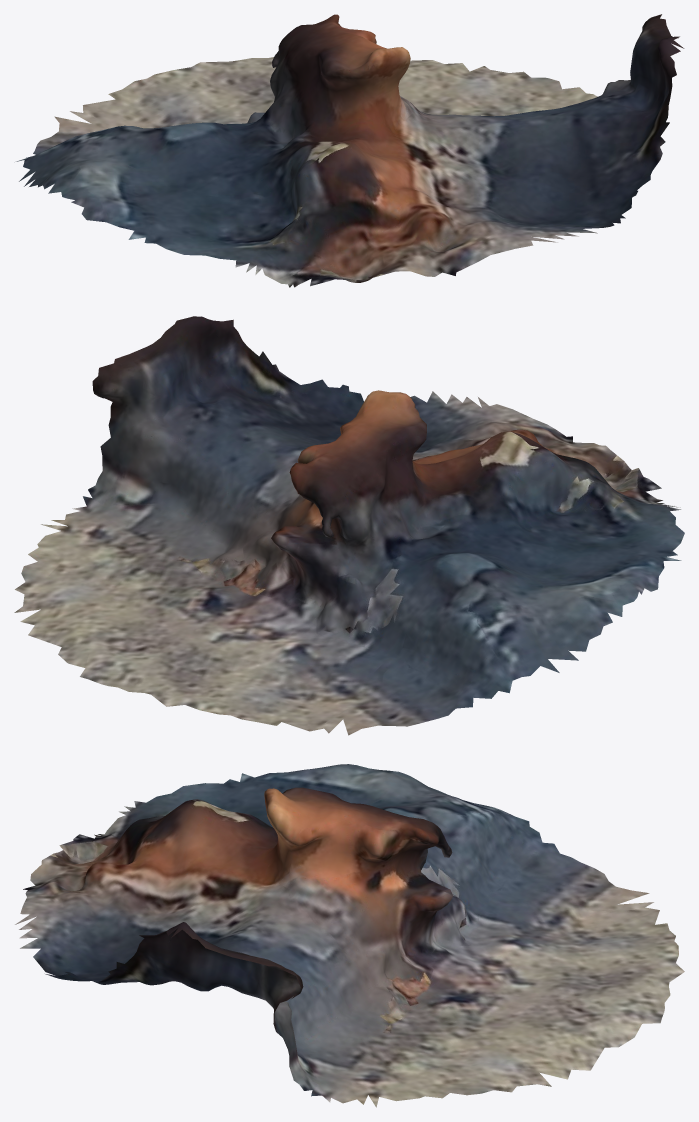
The model's file is dallol-salt-pillars.glb.
3 renders of one model, top to bottom at view 1: azimuth 30°, elevation 25°; view 2: azimuth 150°, elevation 25°; view 3: azimuth 270°, elevation 25°, orthographic.
Parts seen in each view (by area): view 1: dallol-salt-pillars_LOD0; view 2: dallol-salt-pillars_LOD0; view 3: dallol-salt-pillars_LOD0.
Part boxes in pixels (box(x1,y1,x2,y2)): dallol-salt-pillars_LOD0: box(16, 14, 684, 287); dallol-salt-pillars_LOD0: box(14, 316, 684, 735); dallol-salt-pillars_LOD0: box(15, 764, 684, 1107).
Size of what is drawn, in the model's own units: 8.65 by 2.5 by 8.59.
Materials: 1 (1 with a texture image).
